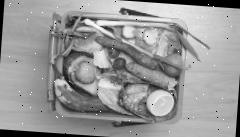organic: (94, 30, 162, 66), (52, 74, 106, 110), (61, 52, 102, 93), (125, 60, 180, 87), (149, 87, 181, 116), (112, 58, 128, 70), (106, 46, 118, 57)
